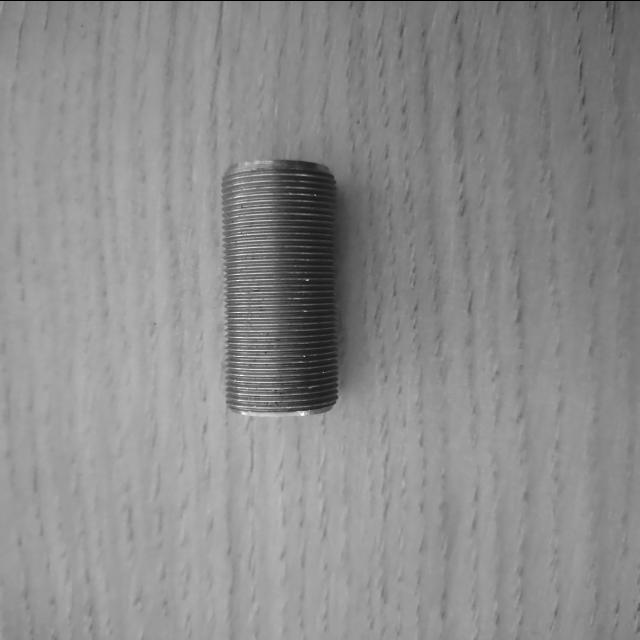Normal: (218, 156, 342, 418)
